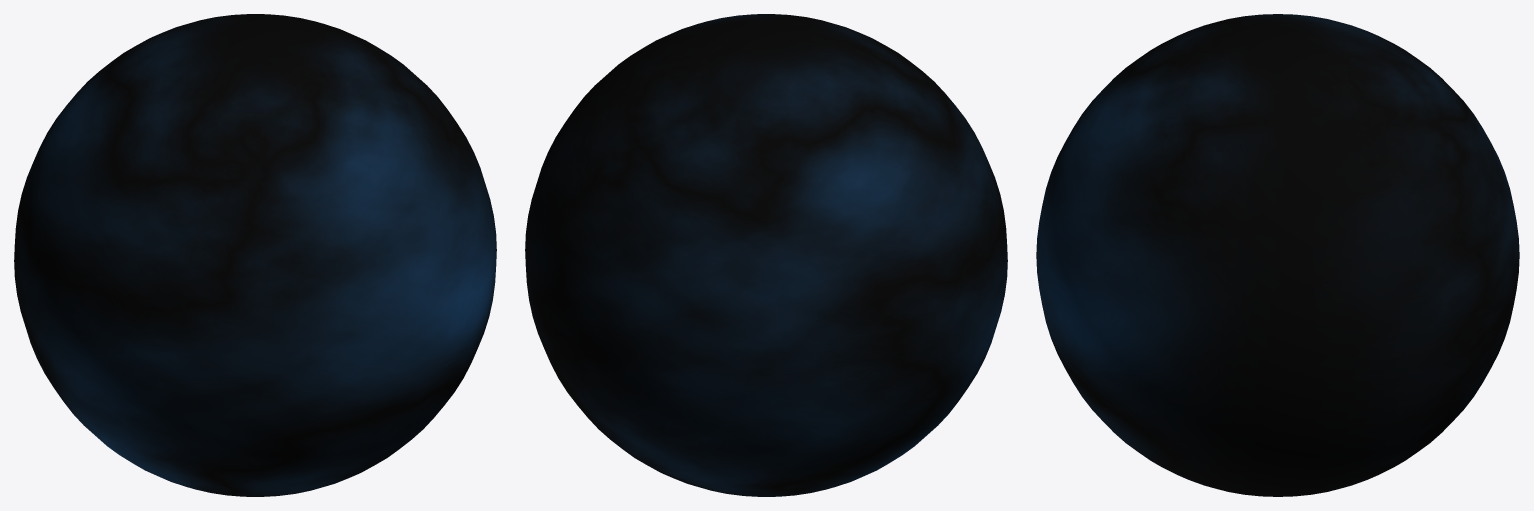
File: Ball1.obj
3 renders of one model, left to right at view 1: azimuth 30°, elevation 25°; view 2: azimuth 150°, elevation 25°; view 3: azimuth 270°, elevation 25°, orthographic.
Visible parts, largest first — view 1: pSphere1; view 2: pSphere1; view 3: pSphere1.
Part boxes in pixels (box(x1,y1,x2,y2)): pSphere1: box(14, 14, 496, 496); pSphere1: box(525, 14, 1007, 496); pSphere1: box(1036, 14, 1519, 496).
Bounding box in the file's own units: 2 × 2 × 2.
1 material, 1 textured.
